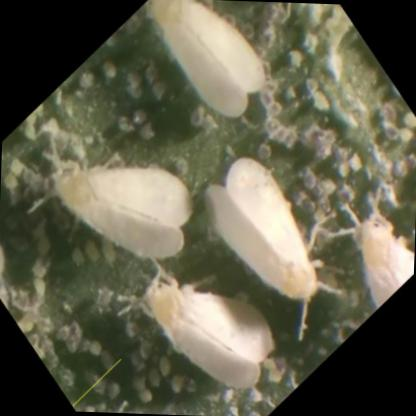whitefly: (199, 162, 318, 296), (146, 278, 275, 391), (151, 0, 268, 119), (55, 165, 192, 259)
